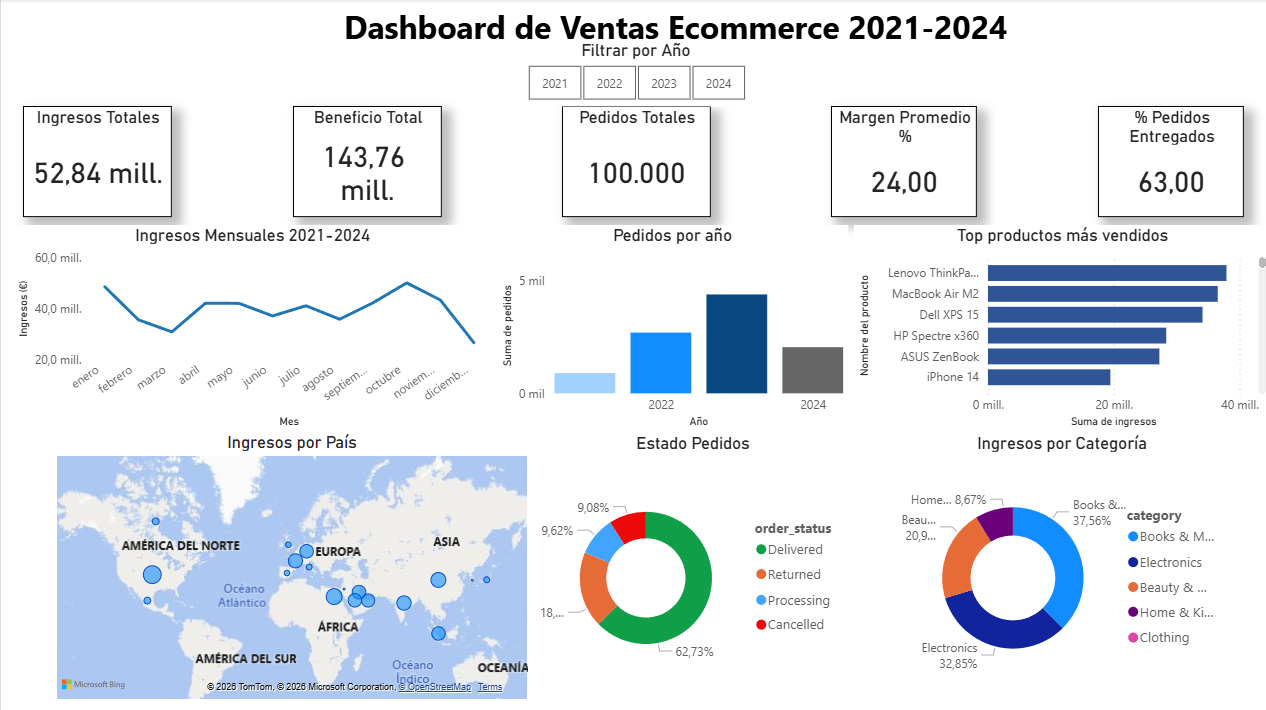

This screenshot's page, from the dashboard's own definition file:
{"tool":"powerbi","page":{"name":"Dashboard Ecommerce","canvas":[1280,720],"ordinal":0},"visuals":[{"type":"textbox","box":[245.5,0,867.9,81.4],"z":0},{"type":"card","title":"Ingresos Totales","fields":{"Values":["Max(kpis_generales.valor)"]},"box":[22.6,107.6,149.5,111.9],"z":1000},{"type":"card","title":"Beneficio Total","fields":{"Values":["Max(kpis_generales.valor)"]},"box":[293.9,107.6,149.5,111.9],"z":2000},{"type":"card","title":"Margen Promedio %","fields":{"Values":["Max(kpis_generales.valor)"]},"box":[836.6,107.6,147.4,111.9],"z":3000},{"type":"card","title":"Pedidos Totales","fields":{"Values":["Max(kpis_generales.valor)"]},"box":[565.2,107.6,149.5,111.9],"z":4000},{"type":"card","title":"% Pedidos Entregados","fields":{"Values":["Max(kpis_generales.valor)"]},"box":[1105.7,107.6,147.4,111.9],"z":5000},{"type":"lineChart","title":"Ingresos Mensuales 2021-2024","fields":{"Category":["ventas_mensuales.fecha_mes.Variación.Jerarquía de fechas.Mes"],"Y":["Sum(ventas_mensuales.ingresos)"]},"box":[11.8,228,483,208.7],"z":6000},{"type":"clusteredColumnChart","title":"Pedidos por año","fields":{"Y":["Sum(ventas_mensuales.pedidos)"],"Category":["ventas_mensuales.year"]},"box":[500.2,228,353.9,208.7],"z":7000},{"type":"slicer","title":"Filtrar por Año","fields":{"Values":["ventas_mensuales.year"]},"box":[505.5,40.9,267.8,66.7],"z":8000},{"type":"clusteredBarChart","title":"Top productos más vendidos","fields":{"Category":["top_productos.product_name"],"Y":["Sum(top_productos.ingresos)"]},"box":[859.4,228,420.6,208.7],"z":9000},{"type":"donutChart","title":"Ingresos por Categoría","fields":{"Category":["categorias.category"],"Y":["Sum(categorias.ingresos)"]},"box":[900,437.4,338.6,273.1],"z":10000},{"type":"map","title":"Ingresos por País","fields":{"Category":["paises.country"],"Size":["Sum(paises.ingresos)"]},"box":[51.4,436.4,483.8,274.1],"z":11000},{"type":"donutChart","title":"Estado Pedidos","fields":{"Category":["estado_pedidos.order_status"],"Y":["Sum(estado_pedidos.pedidos)"]},"box":[535.2,437.4,324.5,273.1],"z":11001}]}

Visuals, with their boxes in screenshot pixels (x1, y1, x2, y2), scaled from the page's 1280x720 canvas onto the 1266x710 screenshot:
textbox: l=243, t=0, r=1101, b=80
"Ingresos Totales" card: l=22, t=106, r=170, b=216
"Beneficio Total" card: l=291, t=106, r=439, b=216
"Margen Promedio %" card: l=827, t=106, r=973, b=216
"Pedidos Totales" card: l=559, t=106, r=707, b=216
"% Pedidos Entregados" card: l=1094, t=106, r=1239, b=216
"Ingresos Mensuales 2021-2024" lineChart: l=12, t=225, r=489, b=431
"Pedidos por año" clusteredColumnChart: l=495, t=225, r=845, b=431
"Filtrar por Año" slicer: l=500, t=40, r=765, b=106
"Top productos más vendidos" clusteredBarChart: l=850, t=225, r=1265, b=431
"Ingresos por Categoría" donutChart: l=890, t=431, r=1225, b=701
"Ingresos por País" map: l=51, t=430, r=529, b=701
"Estado Pedidos" donutChart: l=529, t=431, r=850, b=701
